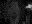person: (26, 4, 31, 10)
